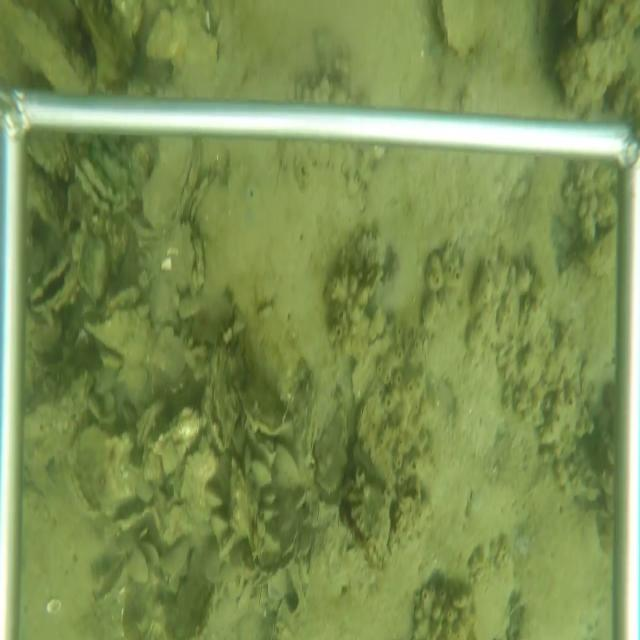Oyster-Closed: (139, 138, 201, 228), (87, 545, 133, 620), (436, 0, 486, 63), (137, 397, 163, 450)
Oyster-Open: (201, 346, 240, 457), (72, 152, 130, 217), (26, 249, 80, 317)
